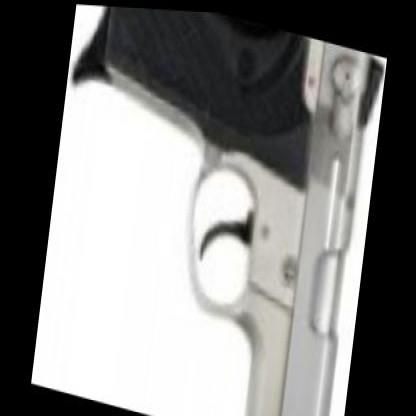pistol: (42, 1, 389, 415)
